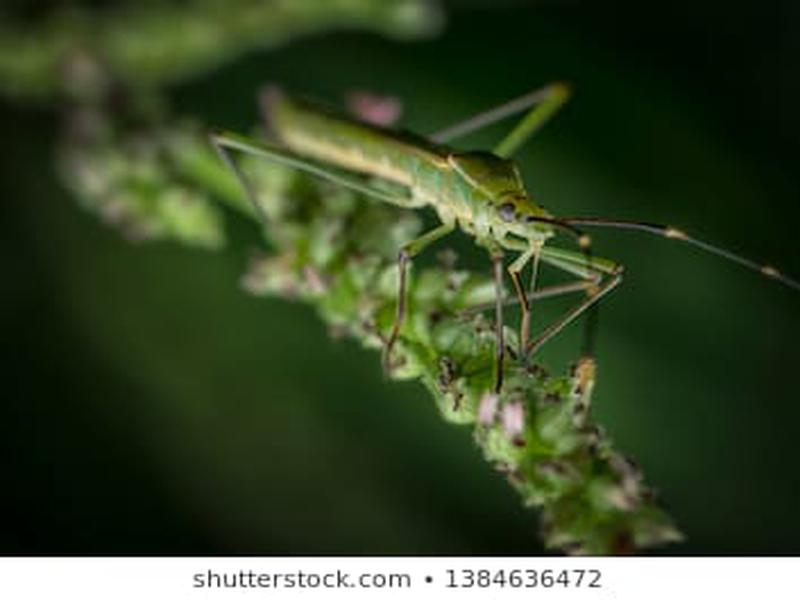Rice_earhead_bug: (245, 90, 624, 331)
